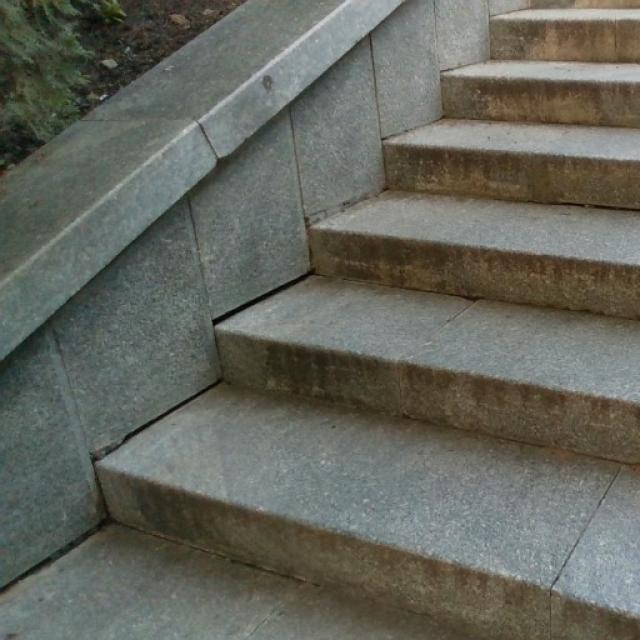Stairs: (91, 0, 639, 639)
